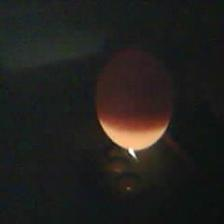fertile: (94, 49, 174, 148)
